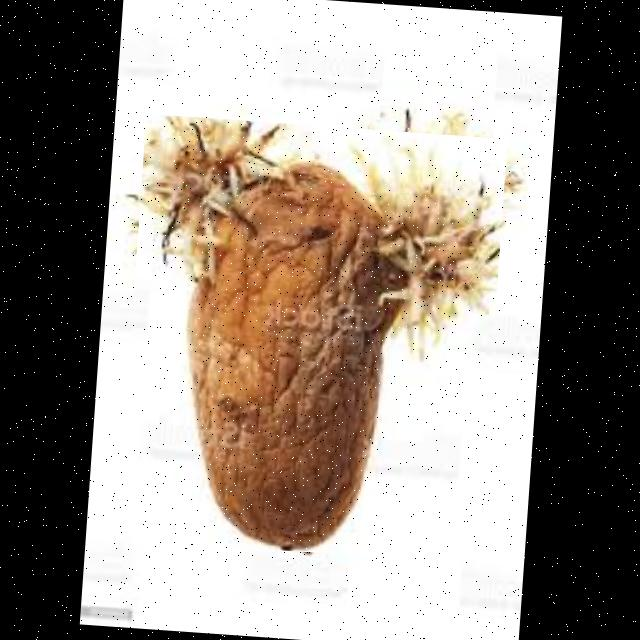Sprouted potato: (116, 114, 507, 564)
